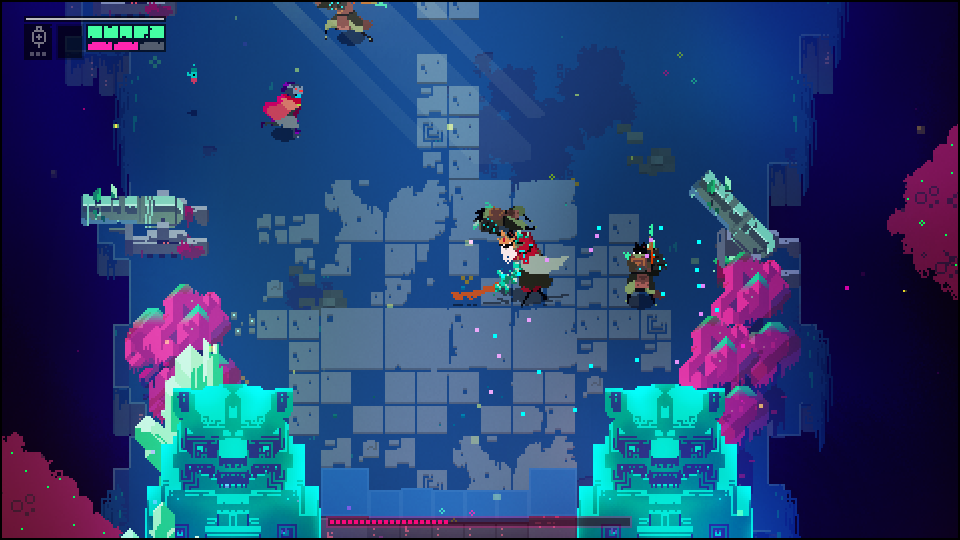hanged_man: (473, 226, 572, 309)
player: (260, 81, 307, 138)
